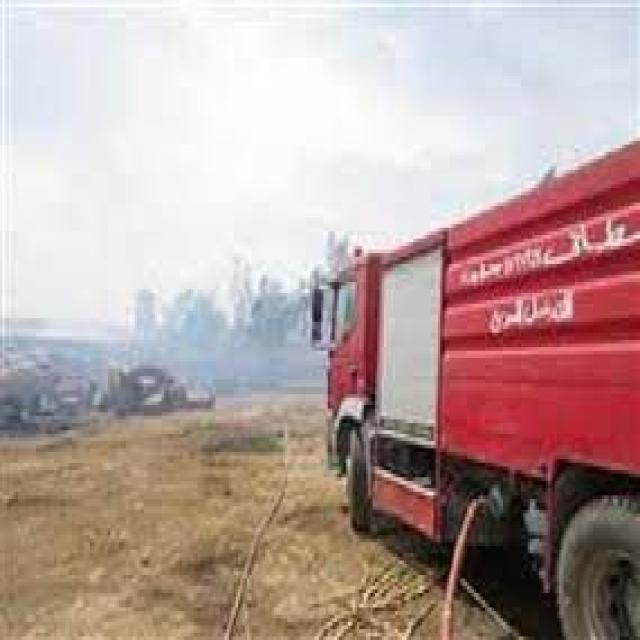pompier: (312, 136, 638, 635)
